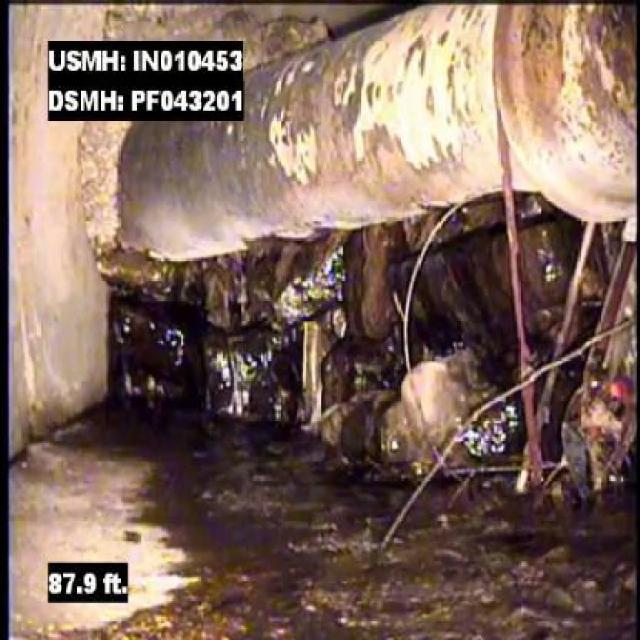Debris: (374, 318, 638, 508)
Utility intrusion: (104, 0, 638, 272)
